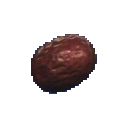gd: (18, 21, 117, 116)
